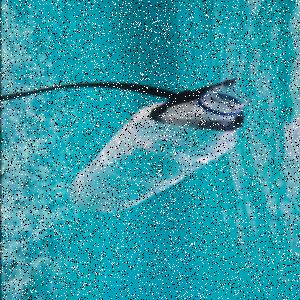Plastic-bottle: (67, 87, 253, 215)
